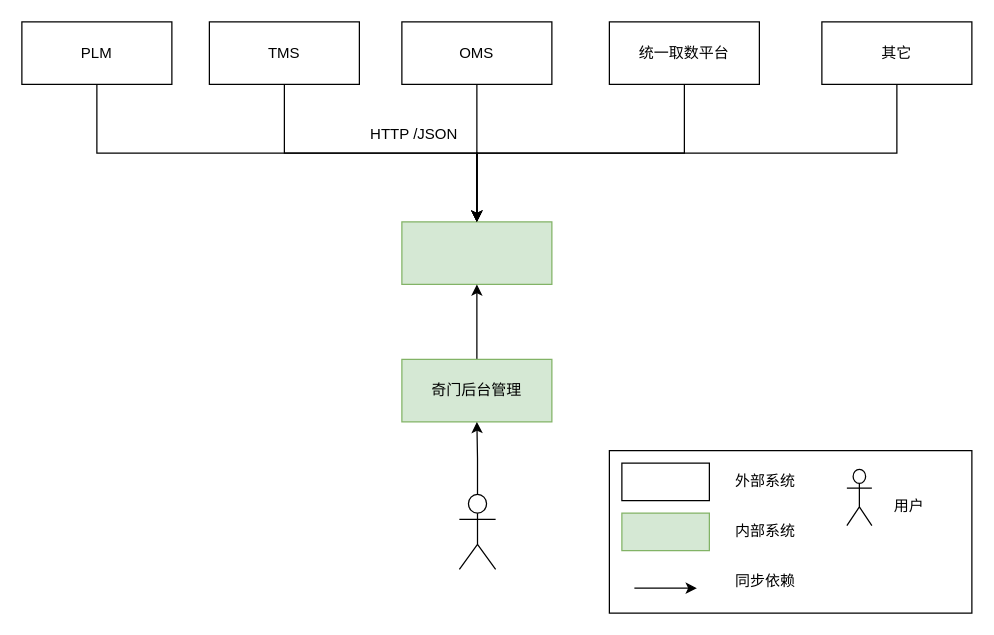
Some shapes in this 994 by 635 pixel diagram are drawn without their labels. The centre of each missing label's shape, as x and y in pixels:
Actor: pixel 859 497
B端用户: pixel 477 531
奇门: pixel 476 252
